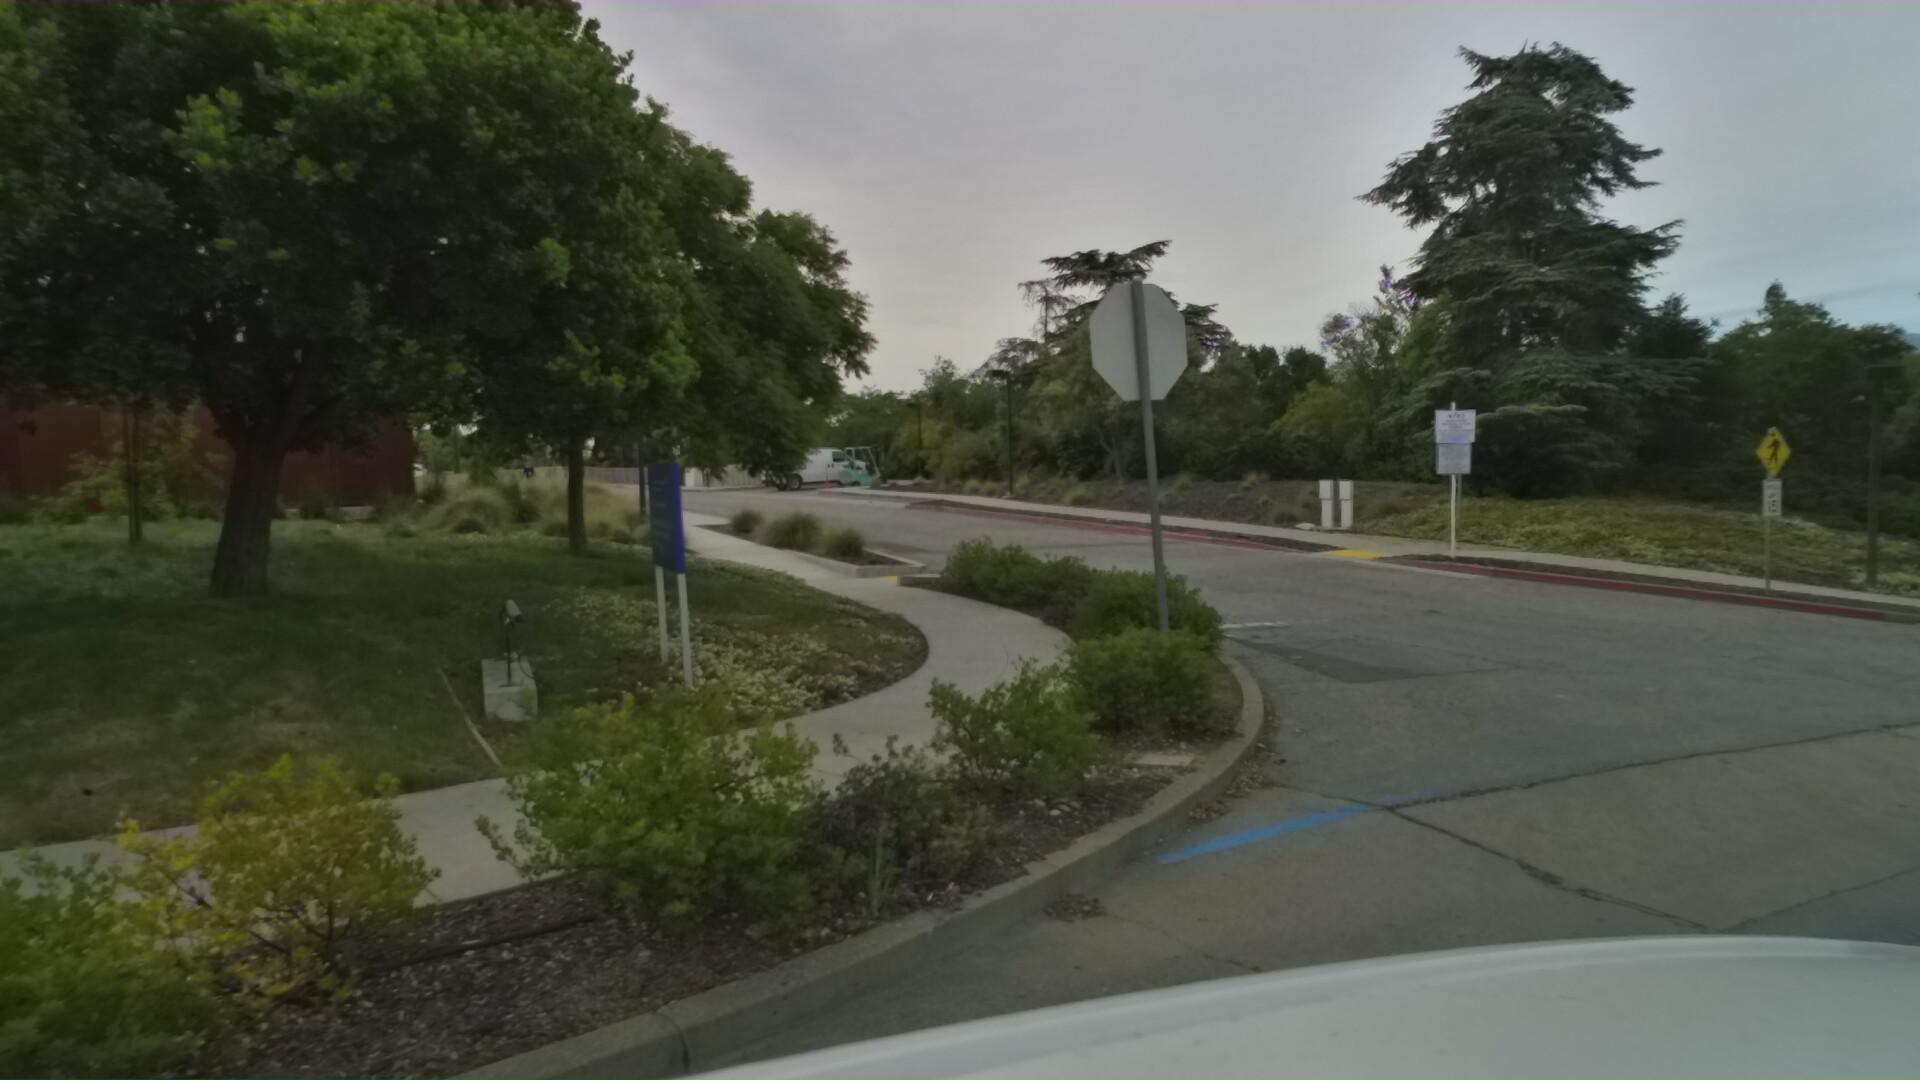car: (760, 439, 874, 489)
other_vehicle: (837, 436, 898, 480)
